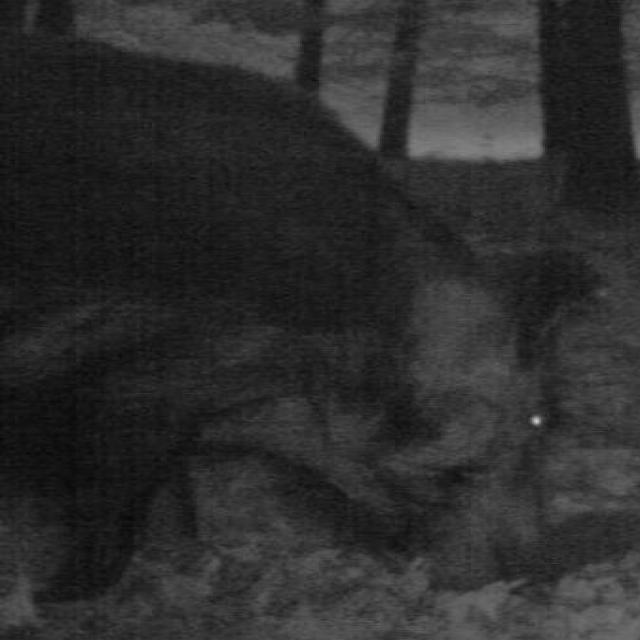pig: (0, 34, 605, 613)
